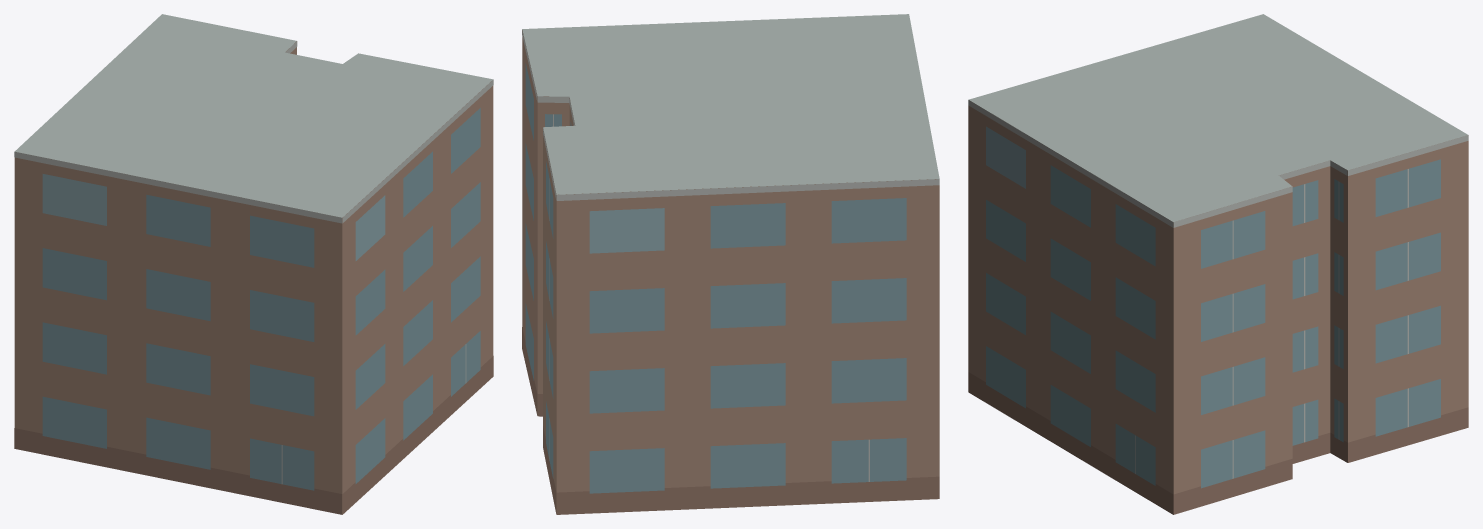
Rendered from survey-upis-32799448.glb.
The picture shows the model from 3 angles, left to right: view 1: azimuth 30°, elevation 25°; view 2: azimuth 150°, elevation 25°; view 3: azimuth 270°, elevation 25°; orthographic projection. The views are drawn at different scales.
Visible parts, largest first — view 1: survey-upis-32799448.tmp; view 2: survey-upis-32799448.tmp; view 3: survey-upis-32799448.tmp.
Boxes of the visible parts, left/top/right/bottom form: survey-upis-32799448.tmp: left=14, top=14, right=493, bottom=514; survey-upis-32799448.tmp: left=522, top=14, right=939, bottom=514; survey-upis-32799448.tmp: left=968, top=14, right=1468, bottom=514.
Size of the model in its own units: 18.93 by 12.4 by 19.21.
